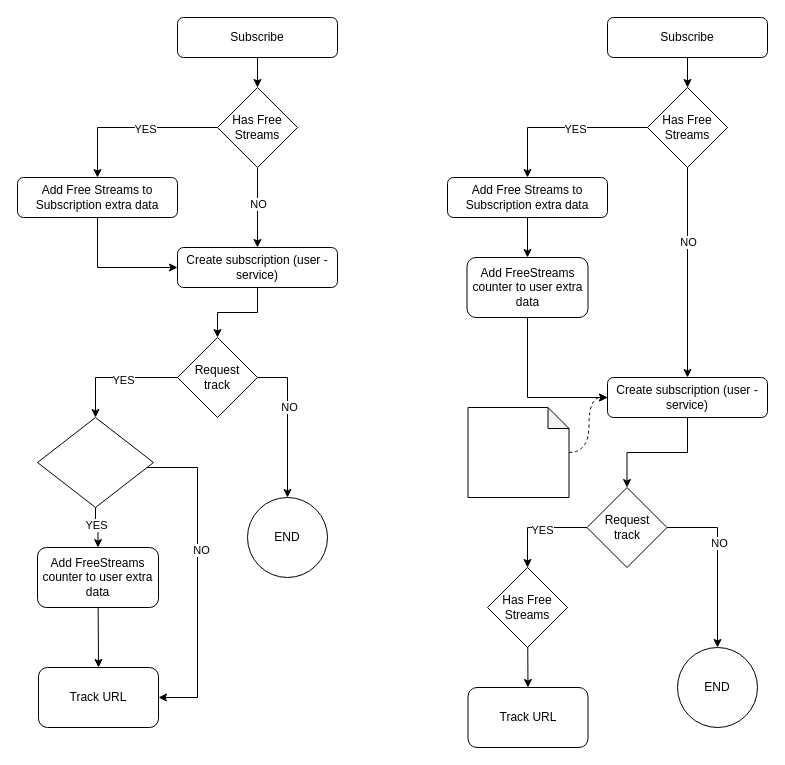
This 785x765 diagram has some shape labels left out. The centre of each missing label's shape, as x and y in pixels:
"Subscription Has Free Streams" belongs at point 95,462.
"User needs to be saved in this subscription flow" belongs at point 518,452.
